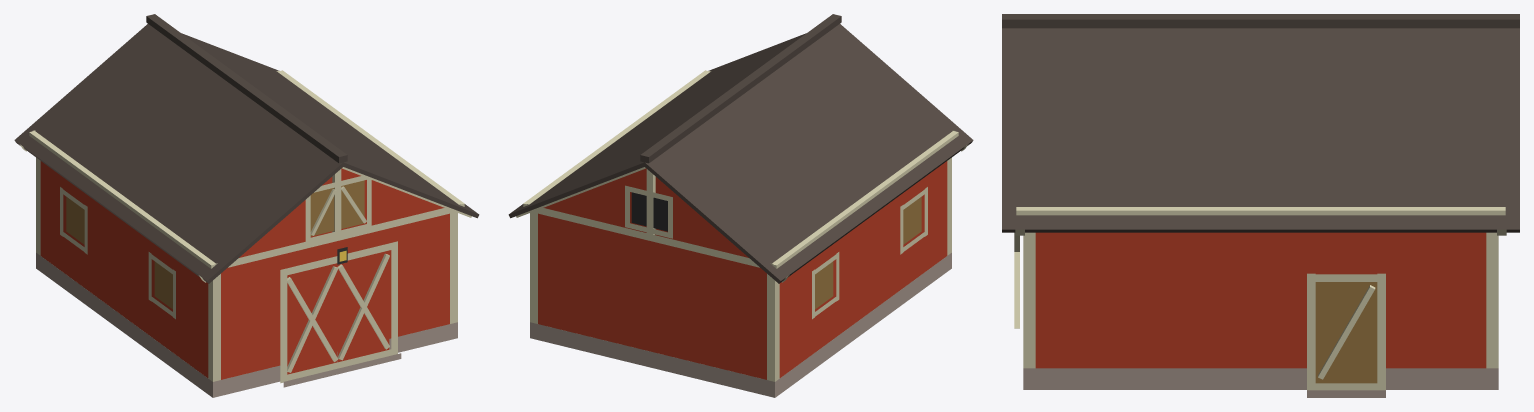
Rendered from Barn_A_Low.fbx.
The picture shows the model from 3 angles, left to right: view 1: azimuth 30°, elevation 25°; view 2: azimuth 150°, elevation 25°; view 3: azimuth 270°, elevation 25°; orthographic projection. The views are drawn at different scales.
Parts seen in each view (by area): view 1: Barn_A_Low; view 2: Barn_A_Low; view 3: Barn_A_Low.
Part boxes in pixels (x1,y1,x2,y2): Barn_A_Low: [14, 14, 479, 397]; Barn_A_Low: [508, 14, 973, 397]; Barn_A_Low: [1002, 14, 1519, 397].
Size of the model in its own units: 8.9 by 6.8 by 10.9.
